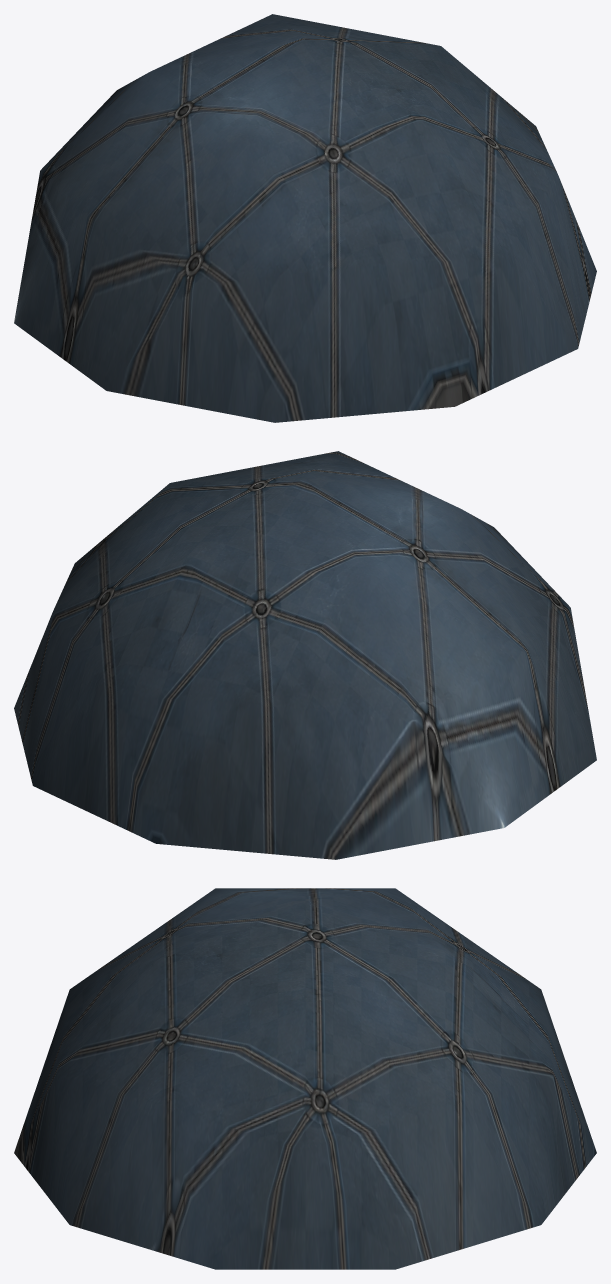
Rendered from bio_field_cupula.dae.
3 renders of one model, top to bottom at view 1: azimuth 30°, elevation 25°; view 2: azimuth 150°, elevation 25°; view 3: azimuth 270°, elevation 25°, orthographic. The views are drawn at different scales.
Parts seen in each view (by area): view 1: icosphere; view 2: icosphere; view 3: icosphere.
Part boxes in pixels (box(x1,y1,x2,y2)): icosphere: box(14, 14, 596, 422); icosphere: box(14, 451, 596, 859); icosphere: box(14, 888, 596, 1269).
Size of the model in its own units: 36.82 by 38.9 by 18.4.
